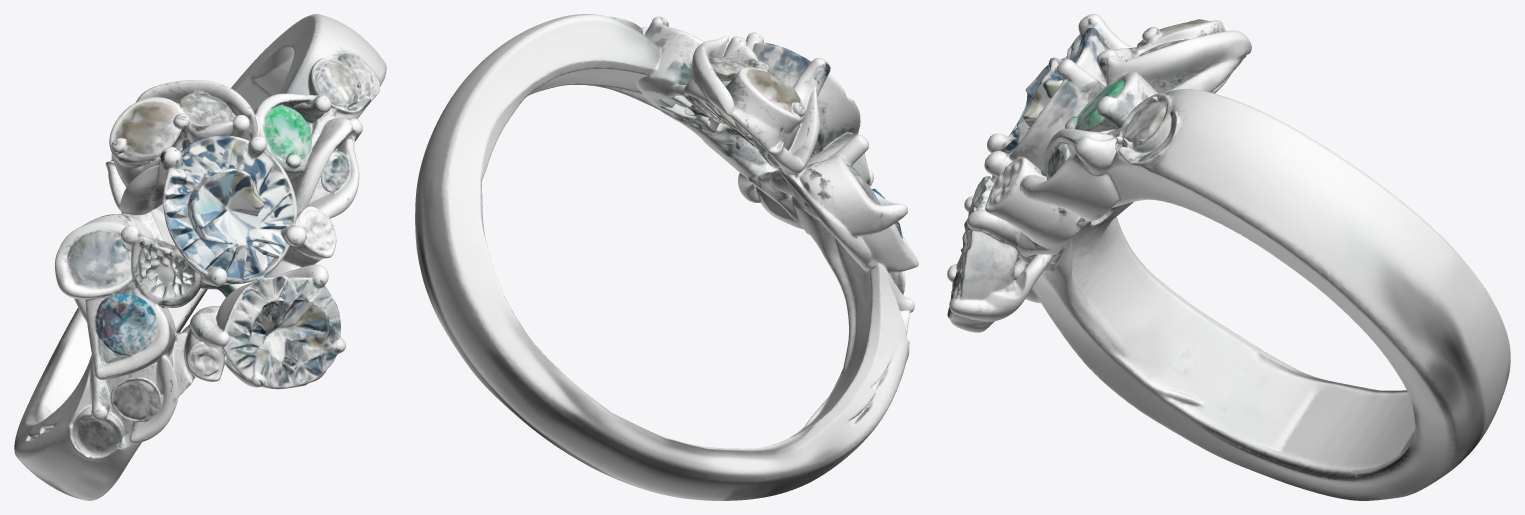
3 renders of one model, left to right at view 1: azimuth 30°, elevation 25°; view 2: azimuth 150°, elevation 25°; view 3: azimuth 270°, elevation 25°, orthographic. The views are drawn at different scales.
Bounding box in the file's own units: 0.8615 × 0.8629 × 0.872.
Materials: 1 (1 with a texture image).
